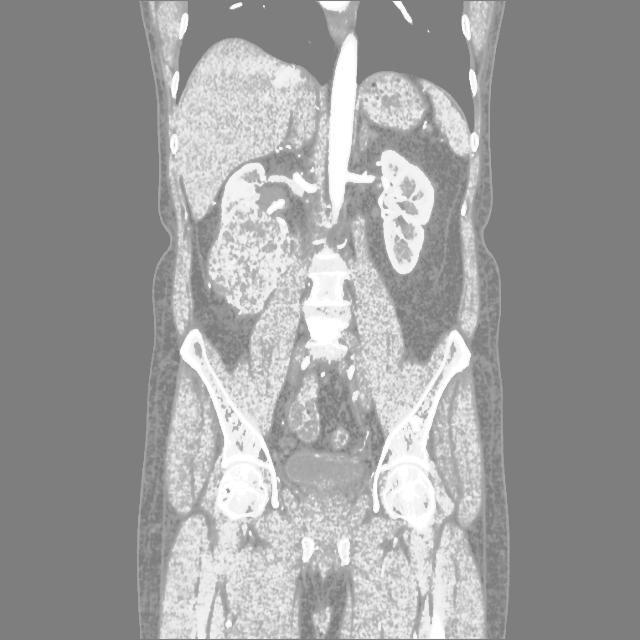TUMOR: (147, 159, 490, 340)
